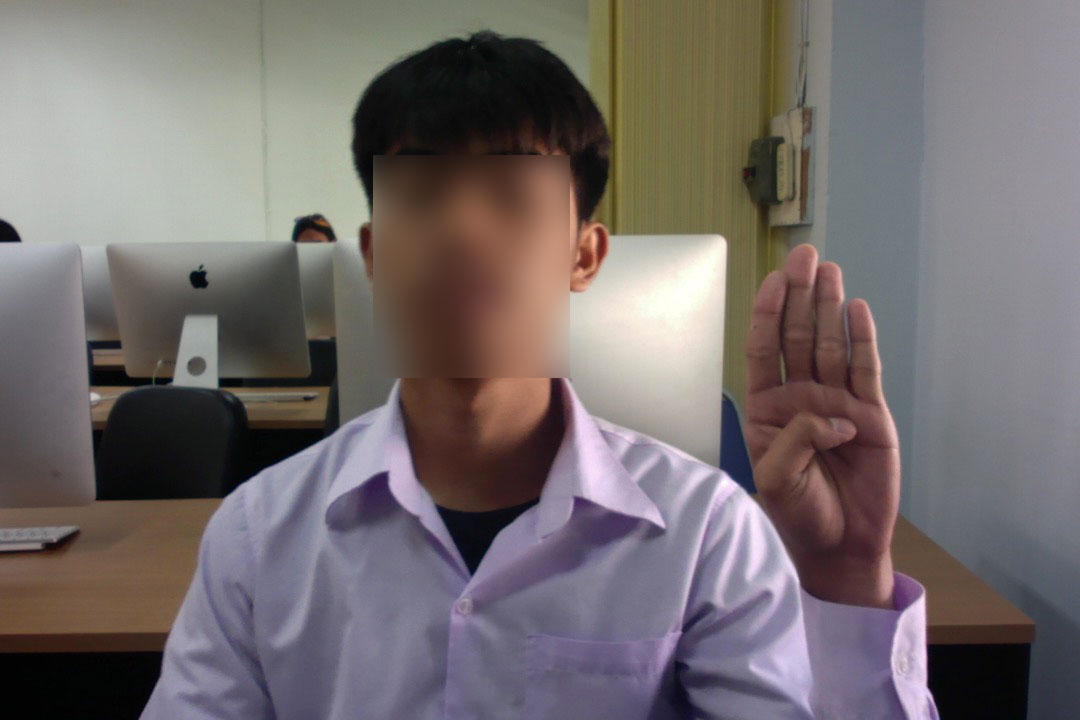bor: (737, 234, 910, 583)
